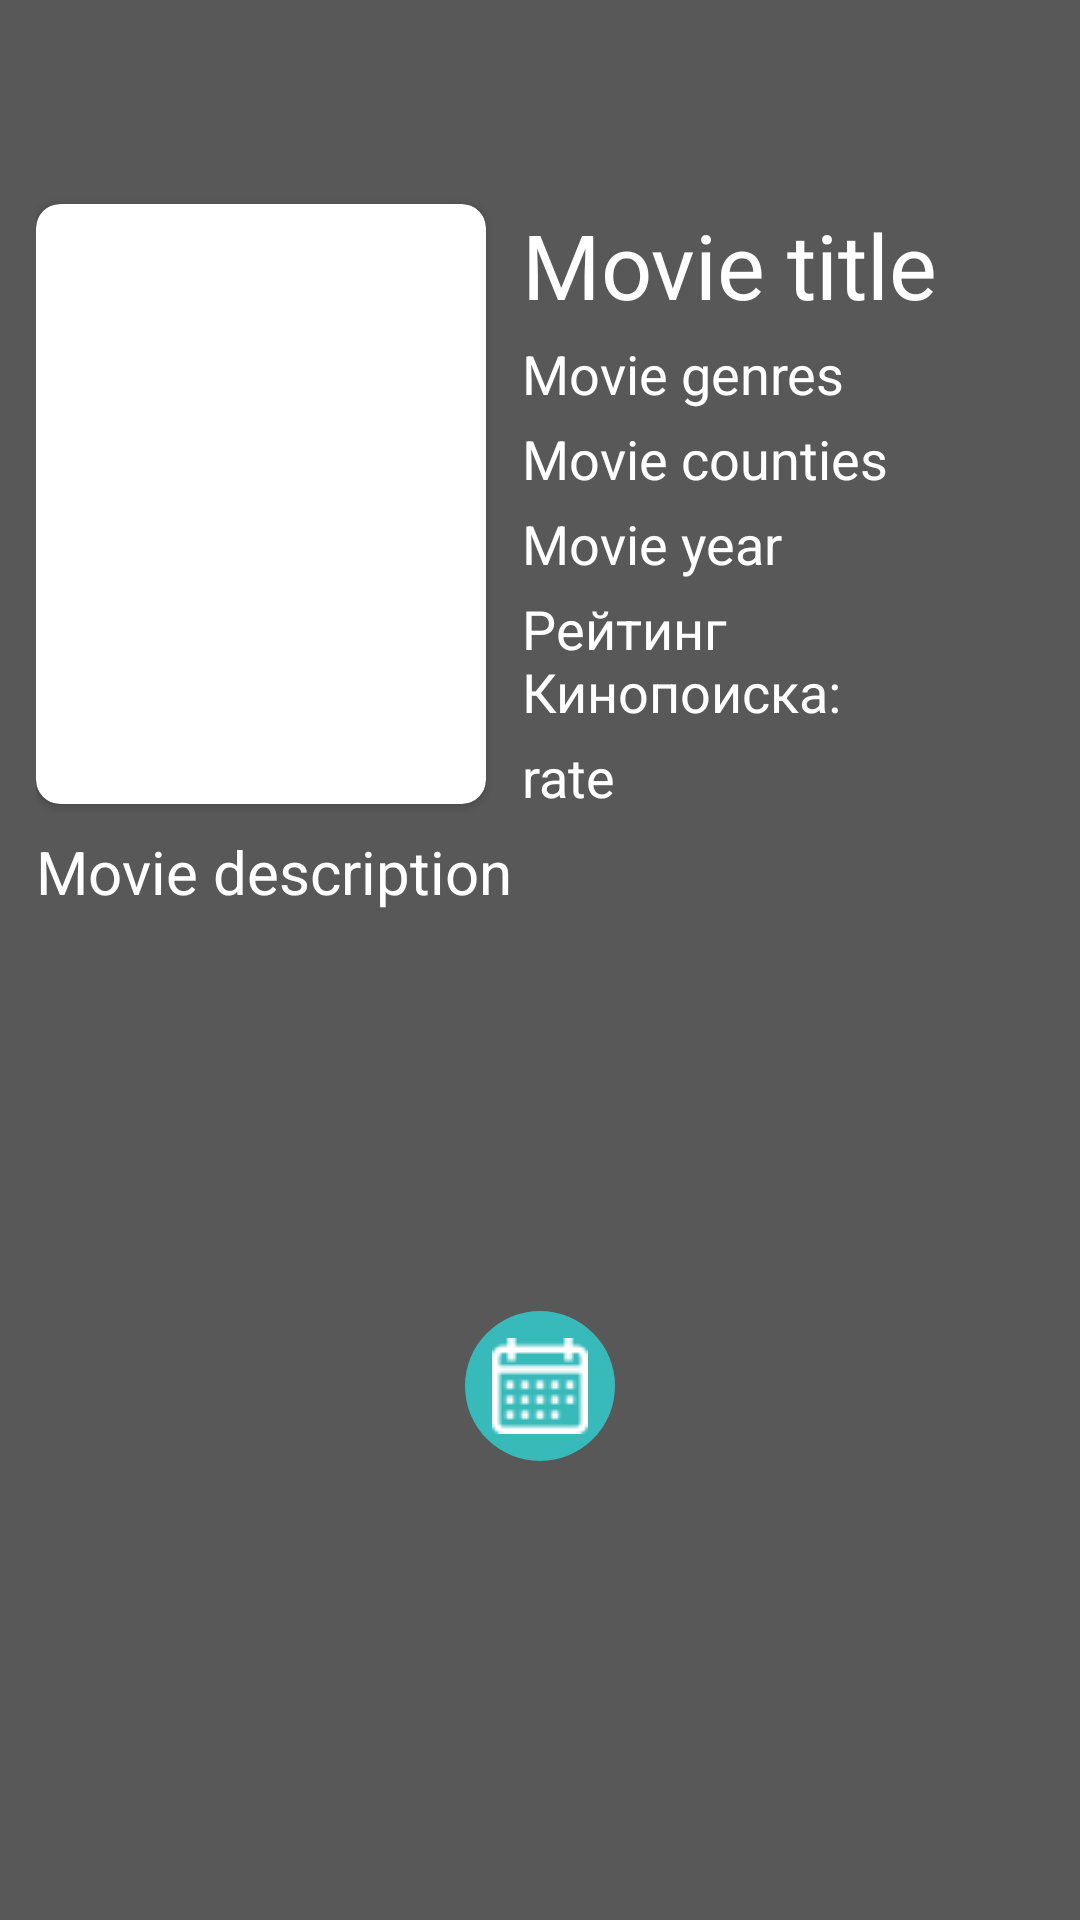

Locate icon controls on the screen. Image size 1080 x 1920, boxes as (x1, y1, x2, y2).
Add to calendar button: (465, 1311, 615, 1461)
